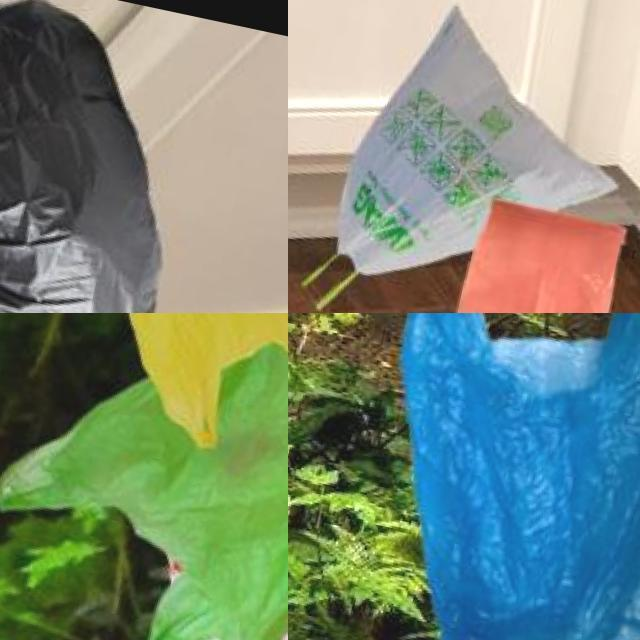waste: (316, 0, 640, 313), (332, 313, 640, 640), (0, 313, 288, 640), (0, 0, 232, 313), (53, 313, 288, 458), (0, 128, 174, 313), (433, 183, 623, 313)
